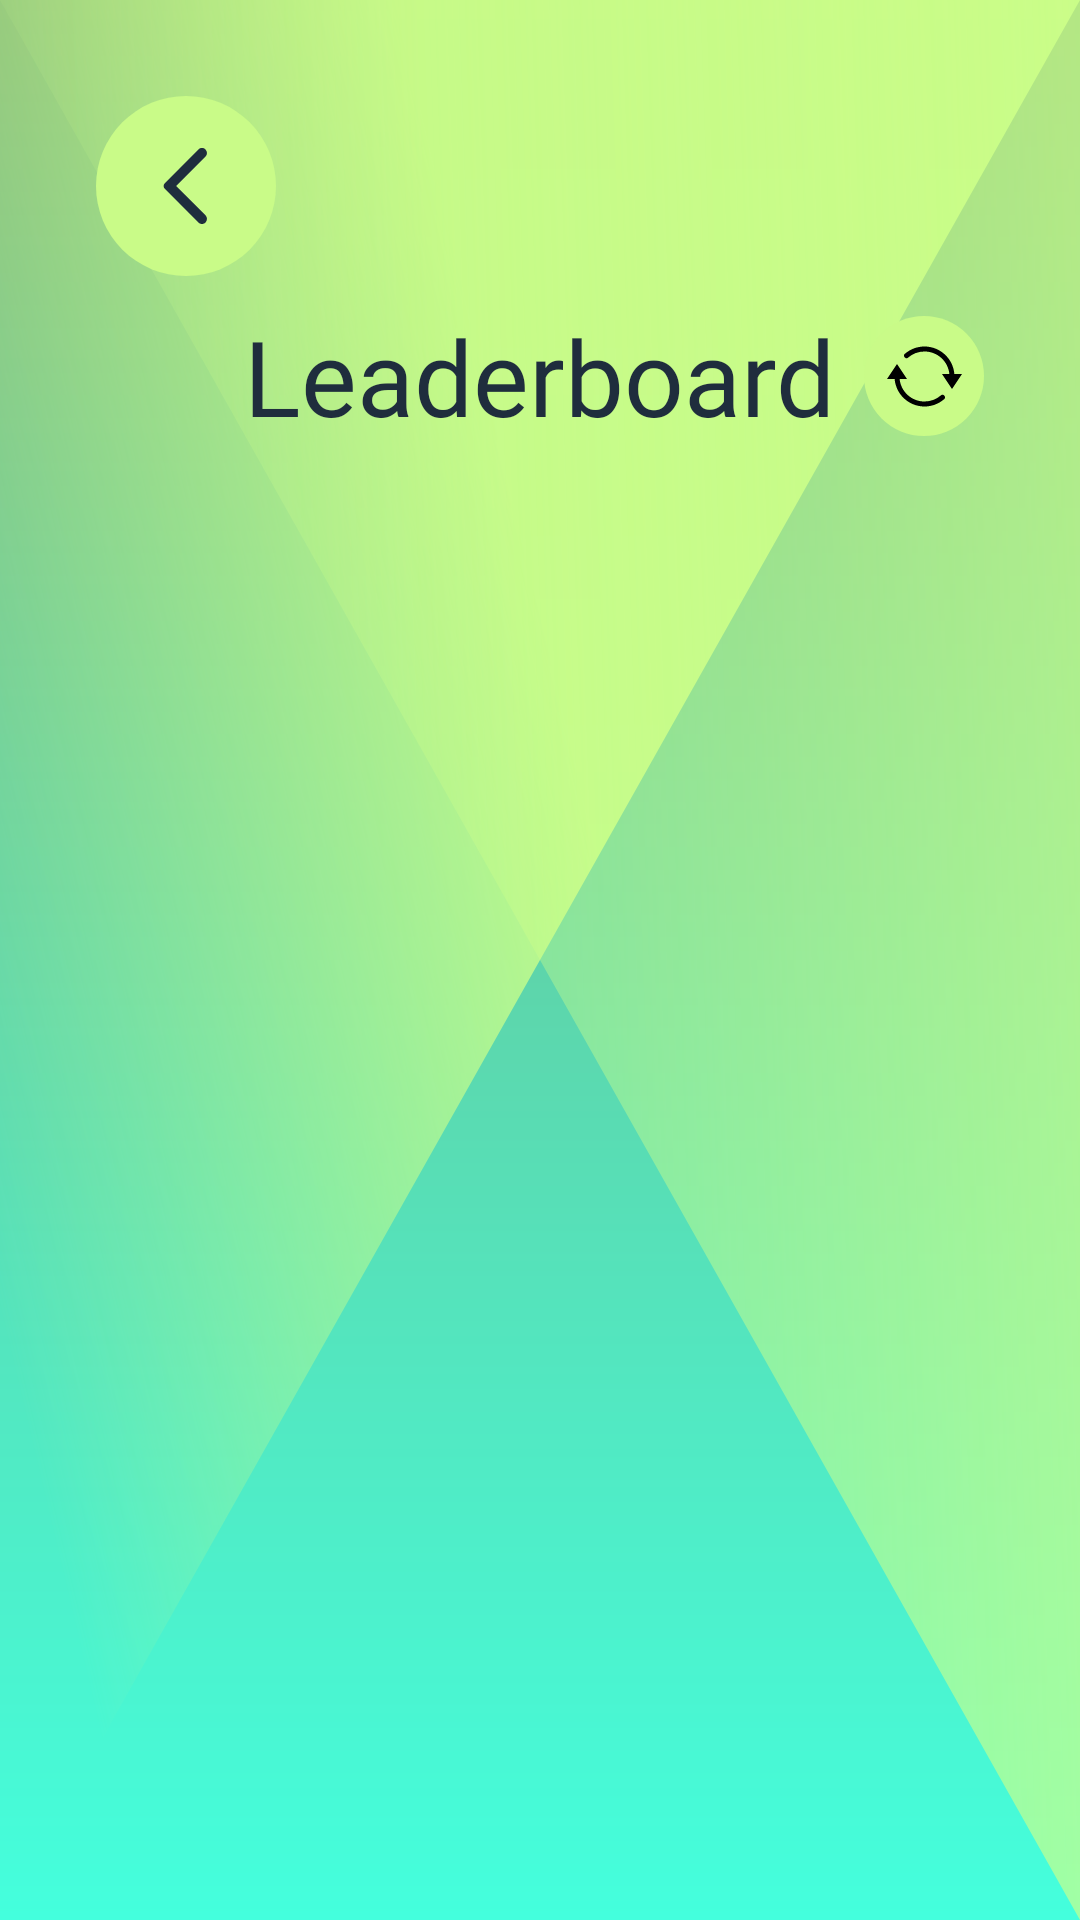

Named icons in this screenshot (1080px x 1920px) and their centers, point (x, y):
refresh page: point (924, 376)
return: point (186, 186)
